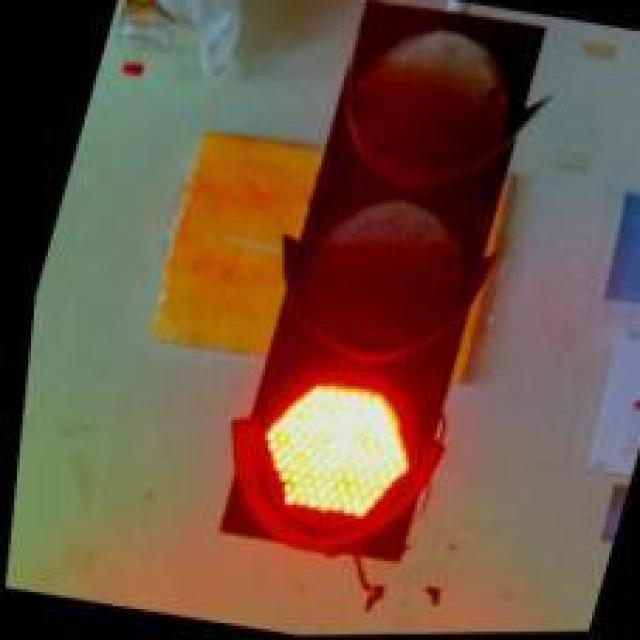Lampu Merah: (204, 1, 546, 574)
